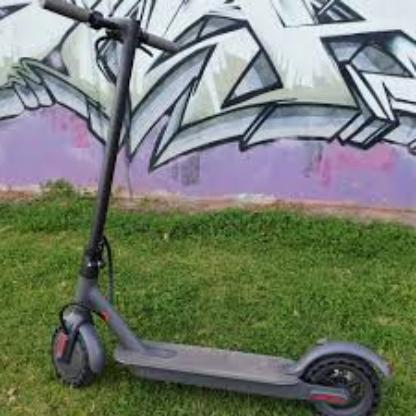bike: (1, 1, 416, 412)
